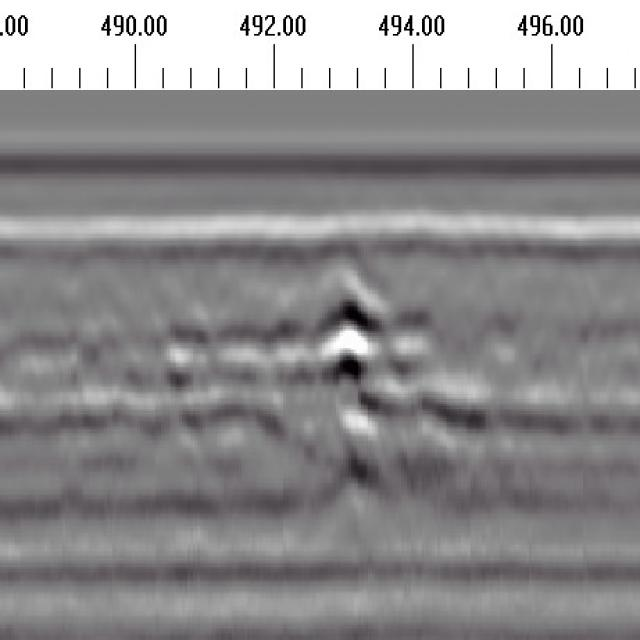loose: (251, 275, 474, 477)
